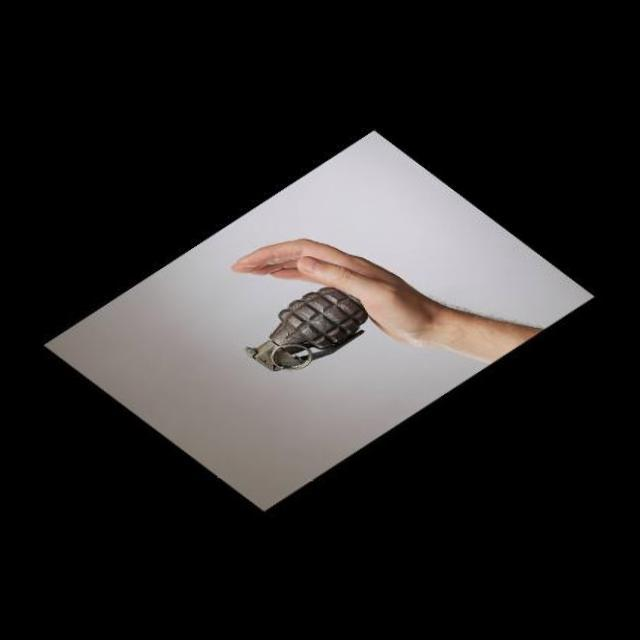grenade: (238, 278, 381, 375)
